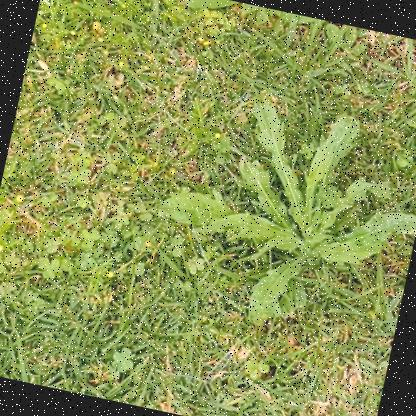Weeds: (140, 81, 415, 357)
